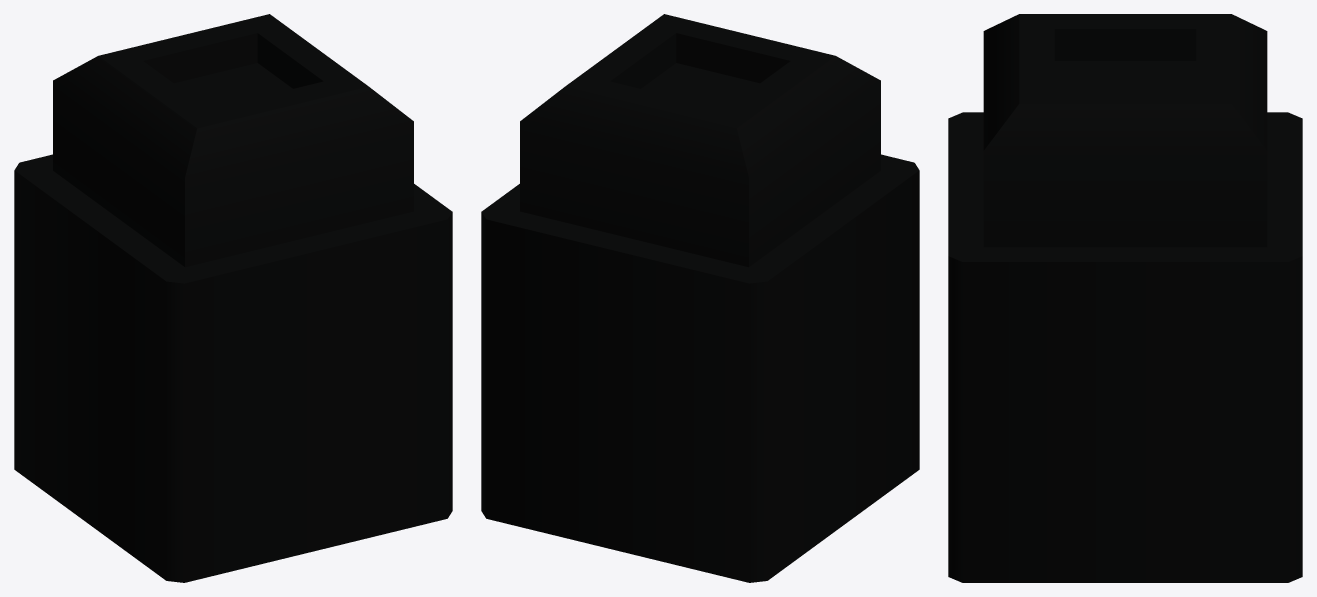
The model's file is low-detail-building-n.glb.
3 views of the same model, side by side, from view 1: azimuth 30°, elevation 25°; view 2: azimuth 150°, elevation 25°; view 3: azimuth 270°, elevation 25° (orthographic). The views are drawn at different scales.
Parts seen in each view (by area): view 1: low-detail-building-n; view 2: low-detail-building-n; view 3: low-detail-building-n.
Boxes of the visible parts, x1=… form: low-detail-building-n: x1=14, y1=14, x2=452, y2=582; low-detail-building-n: x1=481, y1=14, x2=919, y2=582; low-detail-building-n: x1=948, y1=14, x2=1302, y2=582.
Size of the model in its own units: 0.4999 by 0.7 by 0.4999.
1 material, 1 textured.
